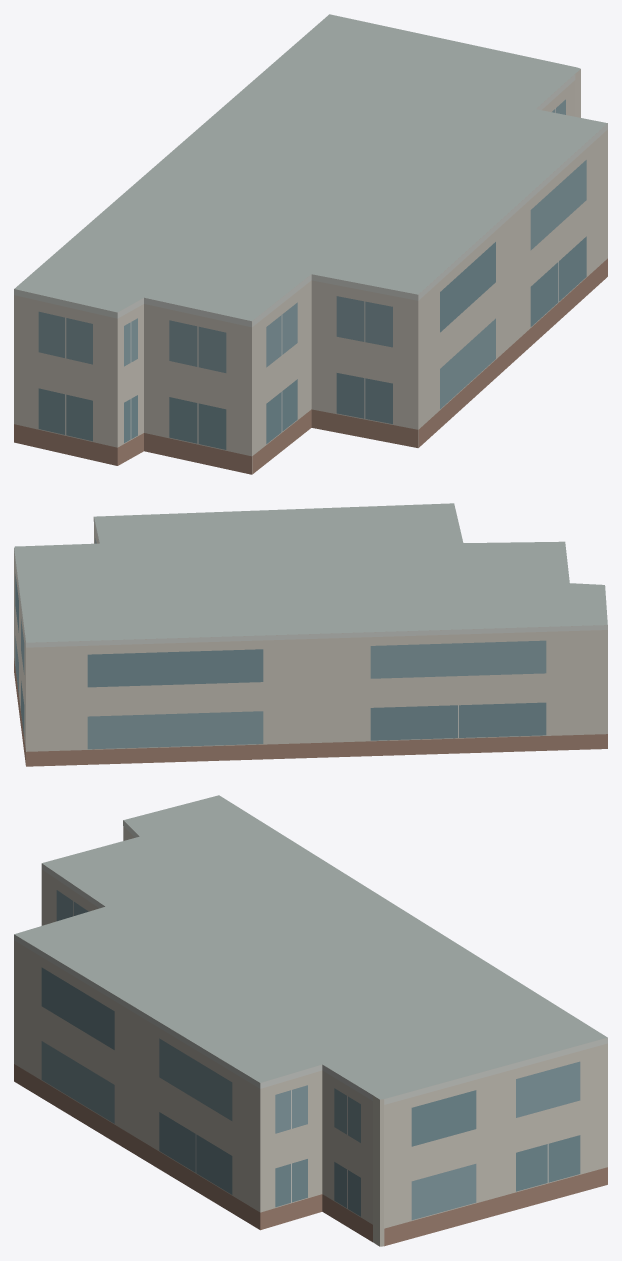
Rendered from survey-upis-32866189.glb.
3 views of the same model, one above another, from view 1: azimuth 30°, elevation 25°; view 2: azimuth 150°, elevation 25°; view 3: azimuth 270°, elevation 25° (orthographic). The views are drawn at different scales.
Parts seen in each view (by area): view 1: survey-upis-32866189.tmp; view 2: survey-upis-32866189.tmp; view 3: survey-upis-32866189.tmp.
Boxes of the visible parts, x1,y1,x2,y2 form: survey-upis-32866189.tmp: (14, 14, 607, 474); survey-upis-32866189.tmp: (14, 503, 607, 766); survey-upis-32866189.tmp: (14, 795, 607, 1246).
Size of the model in its own units: 27.07 by 6.1 by 22.32.
